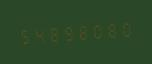eight: (77, 19, 91, 42), (107, 17, 121, 40), (47, 22, 61, 44)
five: (17, 24, 31, 47)
four: (32, 23, 46, 46)
nine: (62, 20, 76, 43)
zero: (92, 18, 106, 41), (122, 16, 136, 39)
